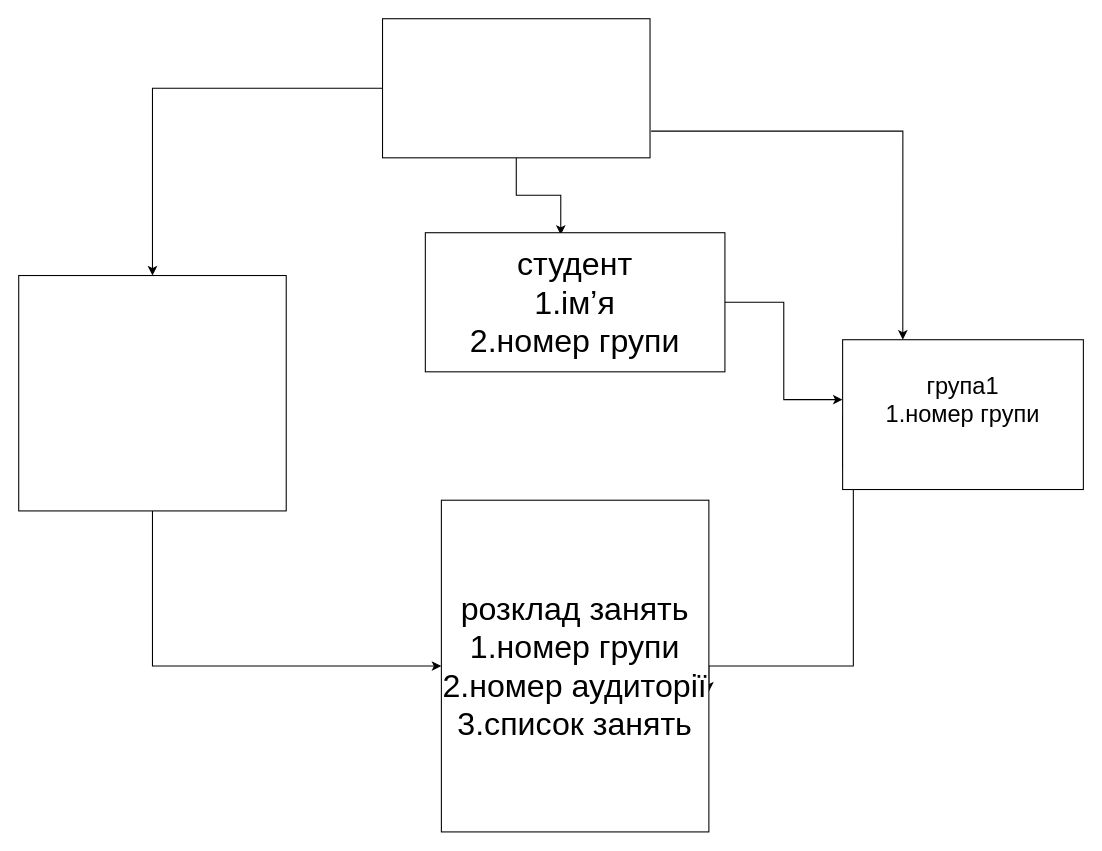
Some shapes in this 1102 by 851 pixel diagram are drawn without their labels. The box of each missing label's shape, as (x1, y1, x2, y2) in pixels:
univer: (381, 18, 650, 158)
аудиторії 1.номер аудиторії: (18, 274, 286, 511)
